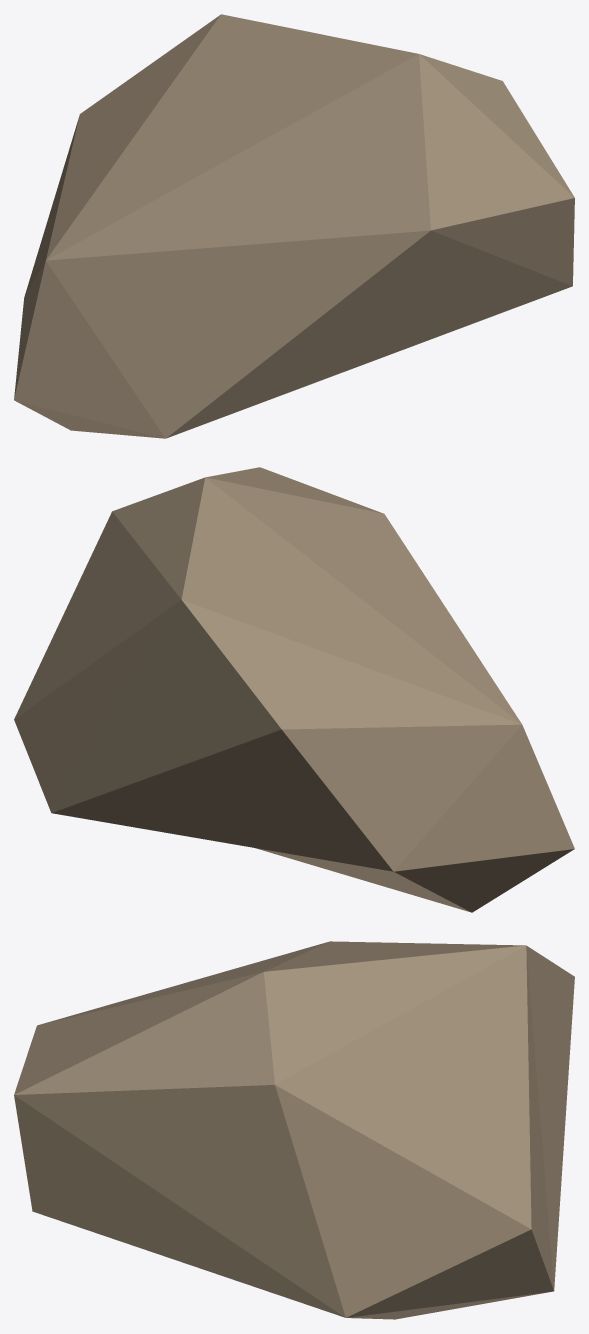
File: Rock_002.fbx
3 renders of one model, top to bottom at view 1: azimuth 30°, elevation 25°; view 2: azimuth 150°, elevation 25°; view 3: azimuth 270°, elevation 25°, orthographic. The views are drawn at different scales.
Parts seen in each view (by area): view 1: Rock.002; view 2: Rock.002; view 3: Rock.002.
Part boxes in pixels (bbox=[...]): Rock.002: bbox=[14, 14, 574, 438]; Rock.002: bbox=[14, 467, 574, 912]; Rock.002: bbox=[14, 941, 574, 1319].
Bounding box in the file's own units: 497 × 306 × 396.
